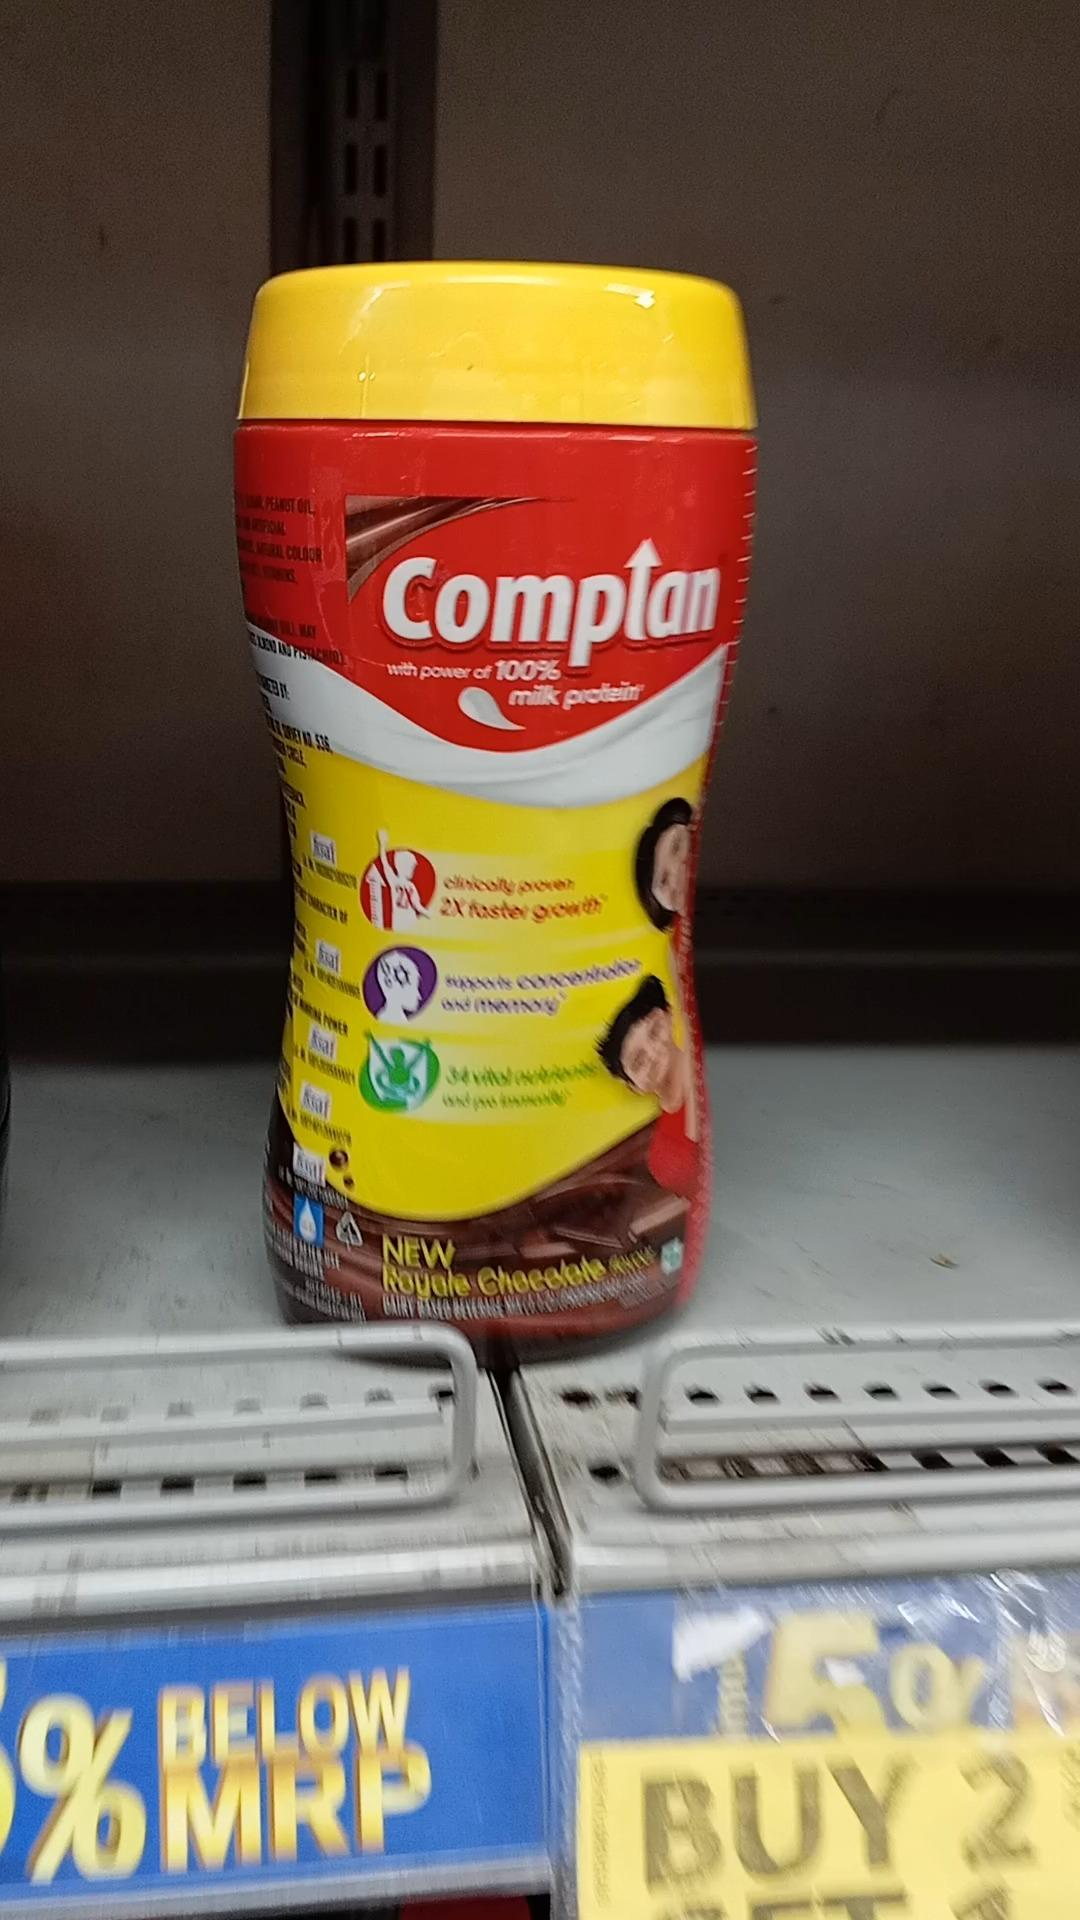COMPLAN_CHOCOLATE_500_GMS_JAR: (247, 229, 717, 1332)
